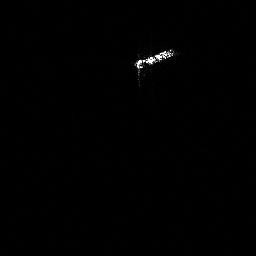ship: (134, 49, 173, 69)
